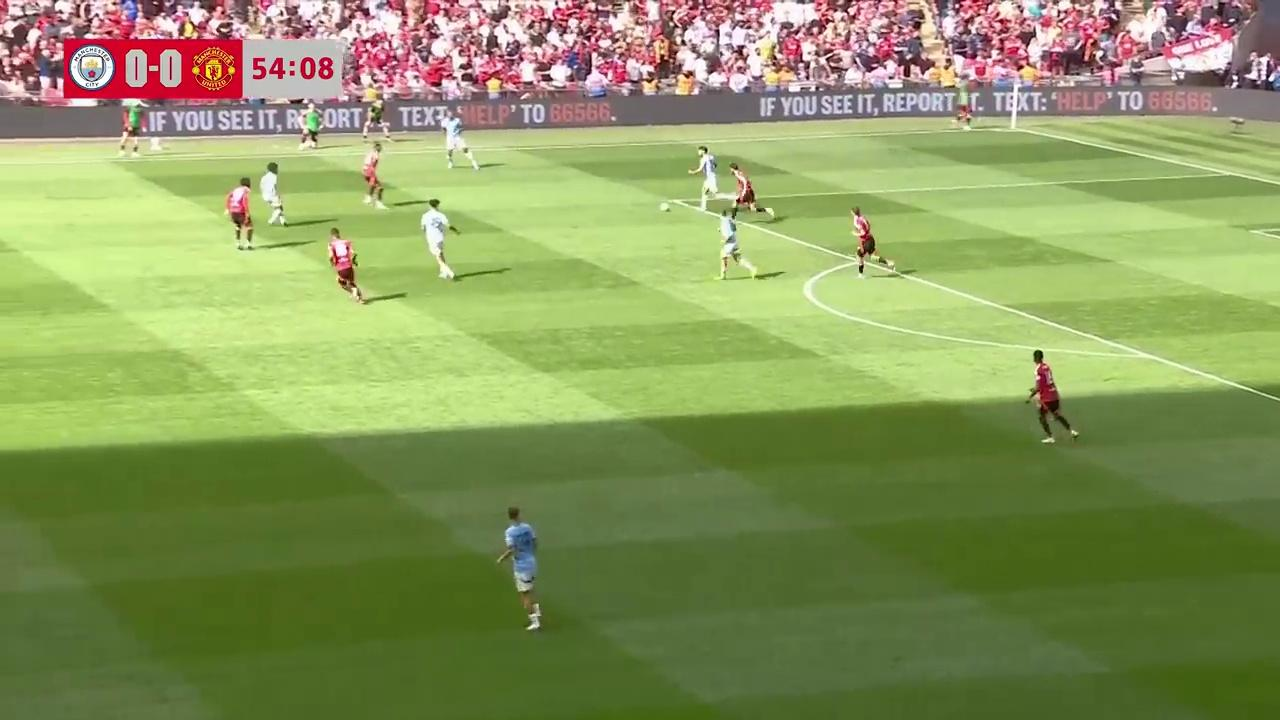ball: (656, 197, 670, 214)
player: (495, 505, 541, 633), (1025, 349, 1080, 444), (421, 199, 458, 279), (717, 207, 756, 280), (850, 207, 891, 276), (327, 229, 364, 303), (224, 180, 254, 250), (444, 113, 477, 171), (728, 163, 764, 214), (688, 146, 718, 205), (260, 162, 286, 226), (362, 143, 384, 207)
